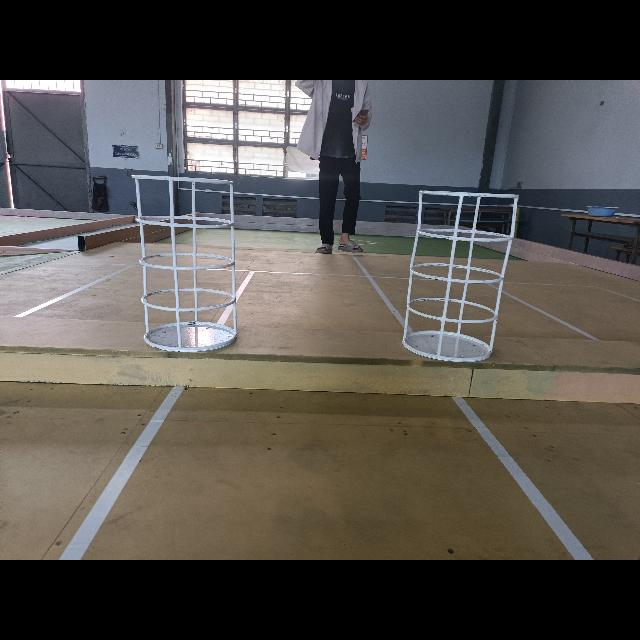S: (398, 190, 523, 364), (128, 173, 244, 356)
